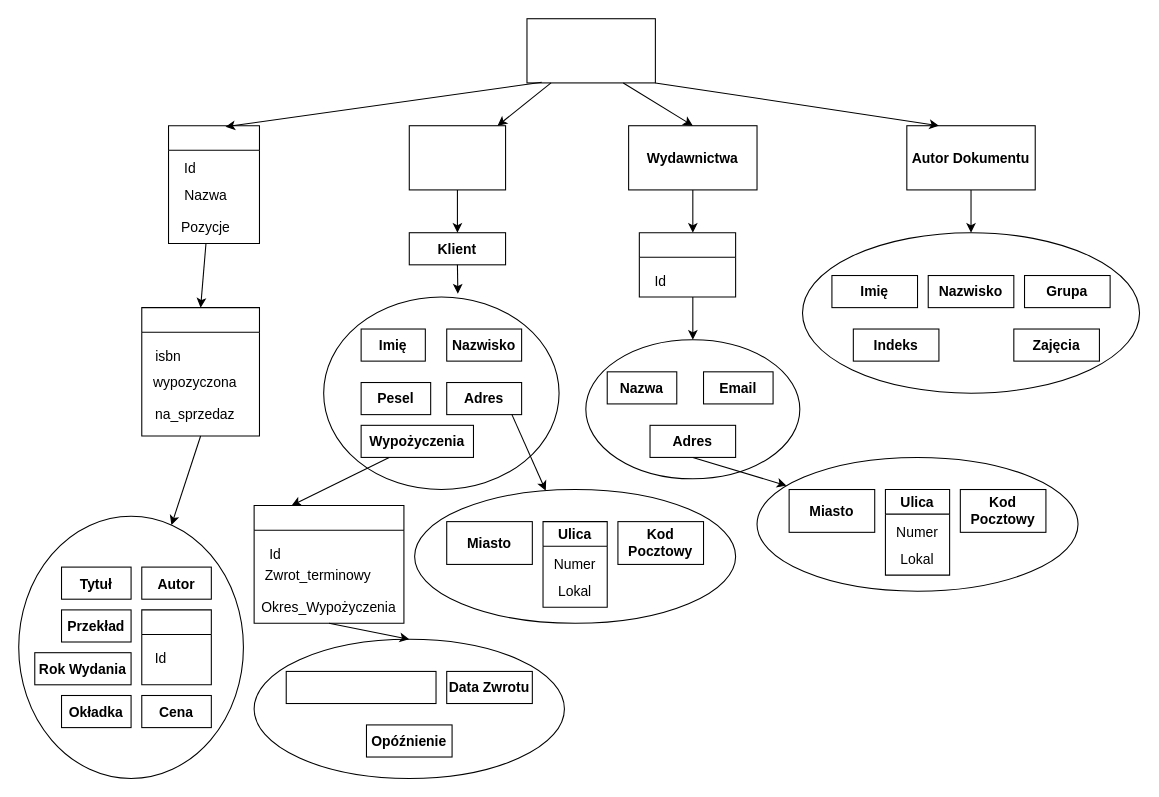
This 1159x797 diagram has some shape labels left out. The box of each missing label's shape, as (x1, y1, x2, y2) in pixels:
Biblioteka: (526, 18, 655, 83)
Data Wypożyczenia: (285, 670, 436, 704)
Dział: (167, 125, 259, 243)
Klienci: (408, 125, 506, 190)
Książka: (141, 307, 259, 436)
Pozycja: (253, 505, 404, 623)
Wydawca: (141, 609, 211, 685)
Wydawnictwo: (638, 232, 736, 297)
